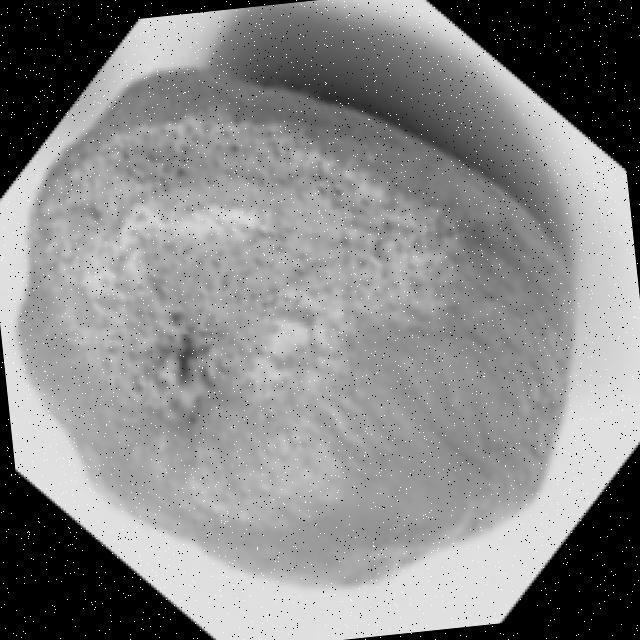Rotten: (0, 29, 603, 623)
